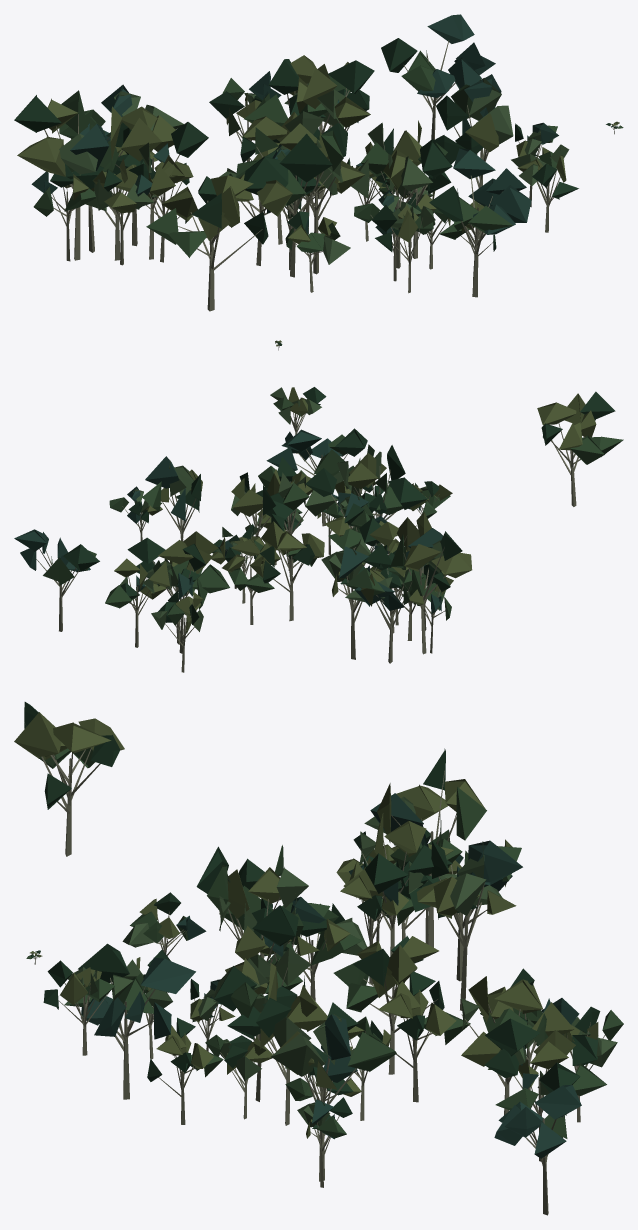
The model's file is forest_22_26.dae.
3 renders of one model, top to bottom at view 1: azimuth 30°, elevation 25°; view 2: azimuth 150°, elevation 25°; view 3: azimuth 270°, elevation 25°, orthographic. The views are drawn at different scales.
Parts seen in each view (by area): view 1: Node; view 2: Node; view 3: Node.
Part boxes in pixels (<box>): Node: <box>14,14,623,311</box>; Node: <box>14,340,623,672</box>; Node: <box>14,702,623,1215</box>.
Bounding box in the file's own units: 12.21 × 10.57 × 5.17.
